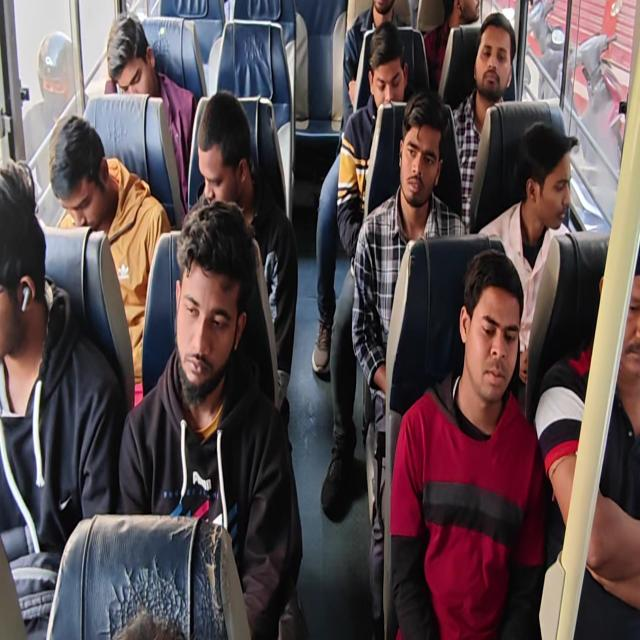person: (168, 226, 248, 400), (0, 165, 52, 356), (50, 114, 115, 236), (462, 261, 513, 404), (199, 104, 258, 212), (596, 247, 640, 384), (522, 128, 575, 234), (391, 106, 444, 210), (110, 22, 158, 102), (368, 39, 402, 110), (477, 32, 508, 92), (441, 0, 485, 34), (363, 0, 399, 22)
